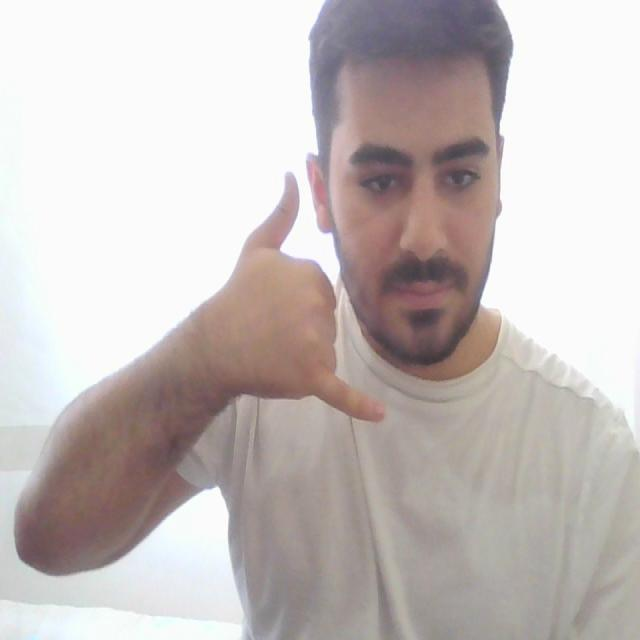Telefon: (235, 166, 391, 429)
